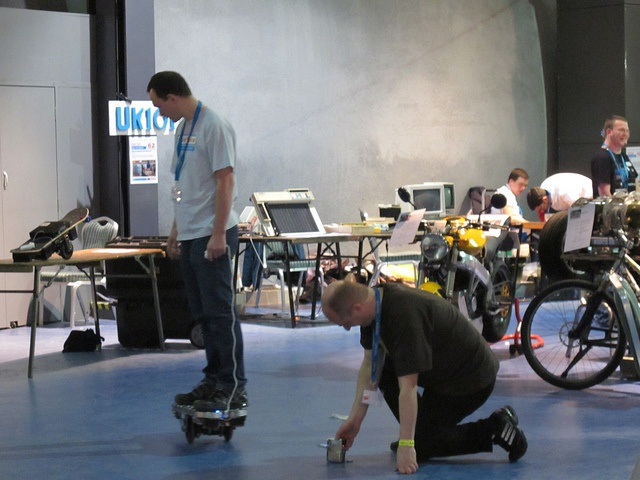non-vehicle: (521, 197, 640, 389), (389, 187, 525, 341)
